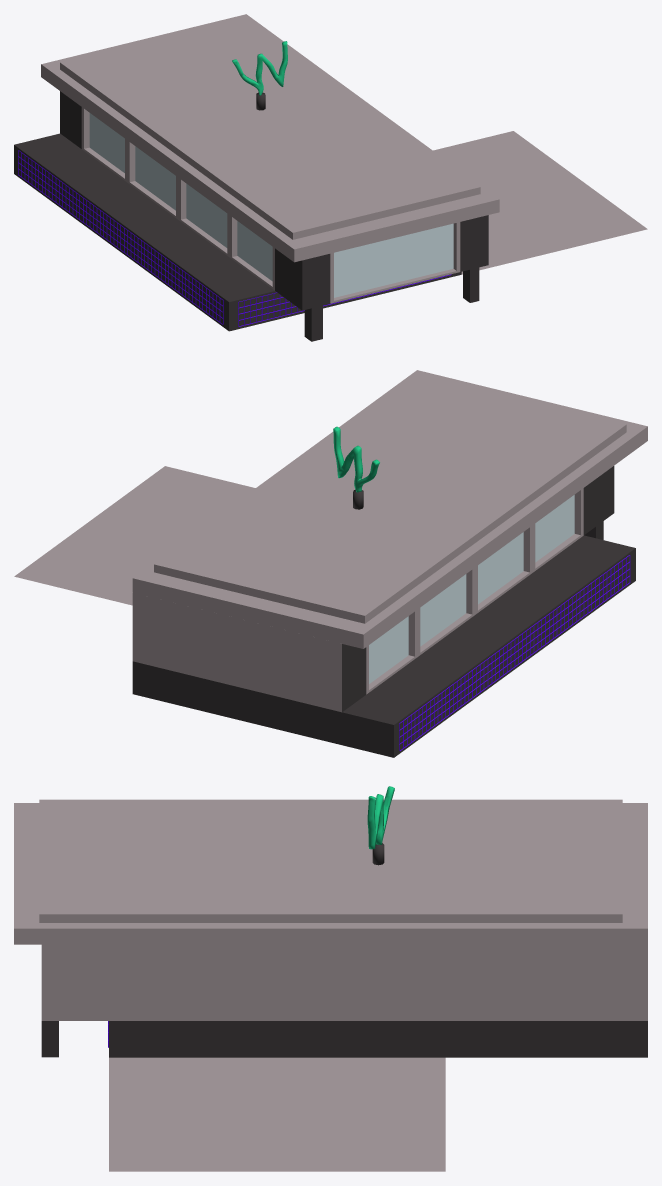
Rendered from roofStore (4).fbx.
3 views of the same model, one above another, from view 1: azimuth 30°, elevation 25°; view 2: azimuth 150°, elevation 25°; view 3: azimuth 270°, elevation 25° (orthographic). The views are drawn at different scales.
Parts seen in each view (by area): view 1: roofStore; view 2: roofStore; view 3: roofStore.
Part boxes in pixels (x1,y1,x2,y2): roofStore: [14, 14, 647, 341]; roofStore: [14, 370, 647, 757]; roofStore: [14, 786, 647, 1171].
Size of the model in its own units: 450 by 183 by 471.
